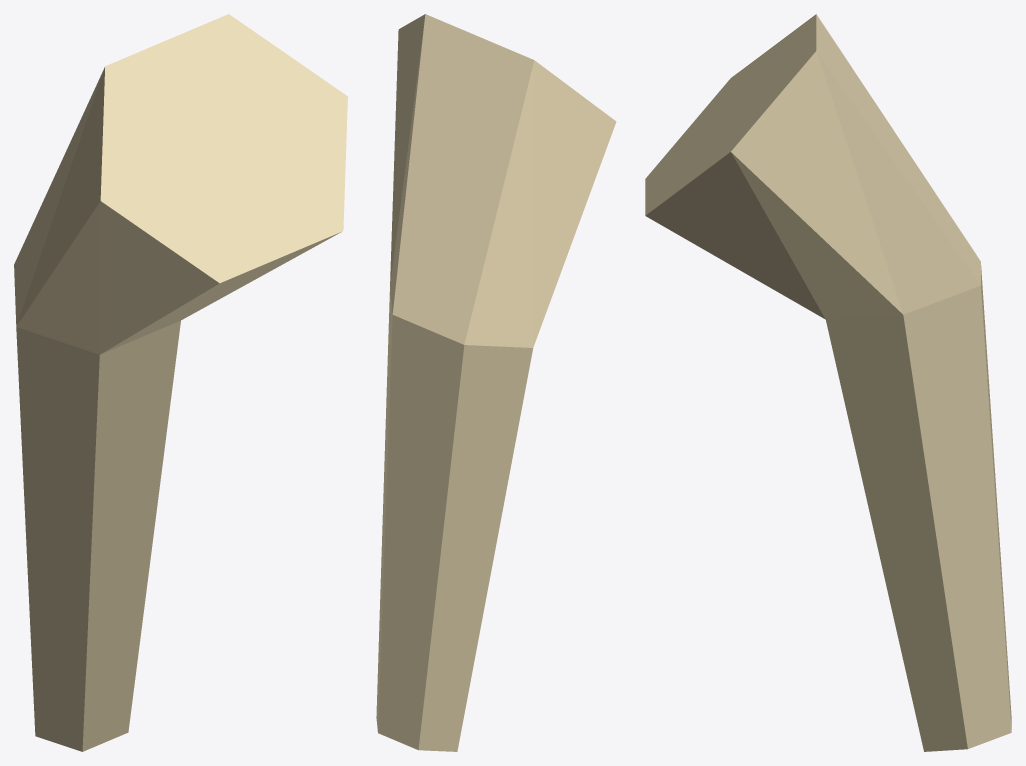
Rendered from bone.FBX.
3 renders of one model, left to right at view 1: azimuth 30°, elevation 25°; view 2: azimuth 150°, elevation 25°; view 3: azimuth 270°, elevation 25°, orthographic. The views are drawn at different scales.
Parts seen in each view (by area): view 1: bone; view 2: bone; view 3: bone.
Boxes of the visible parts, x1,y1,x2,y2 form: bone: [14, 14, 347, 751]; bone: [376, 14, 616, 751]; bone: [645, 14, 1011, 751].
Size of the model in its own units: 1.02 by 2.98 by 1.36.
